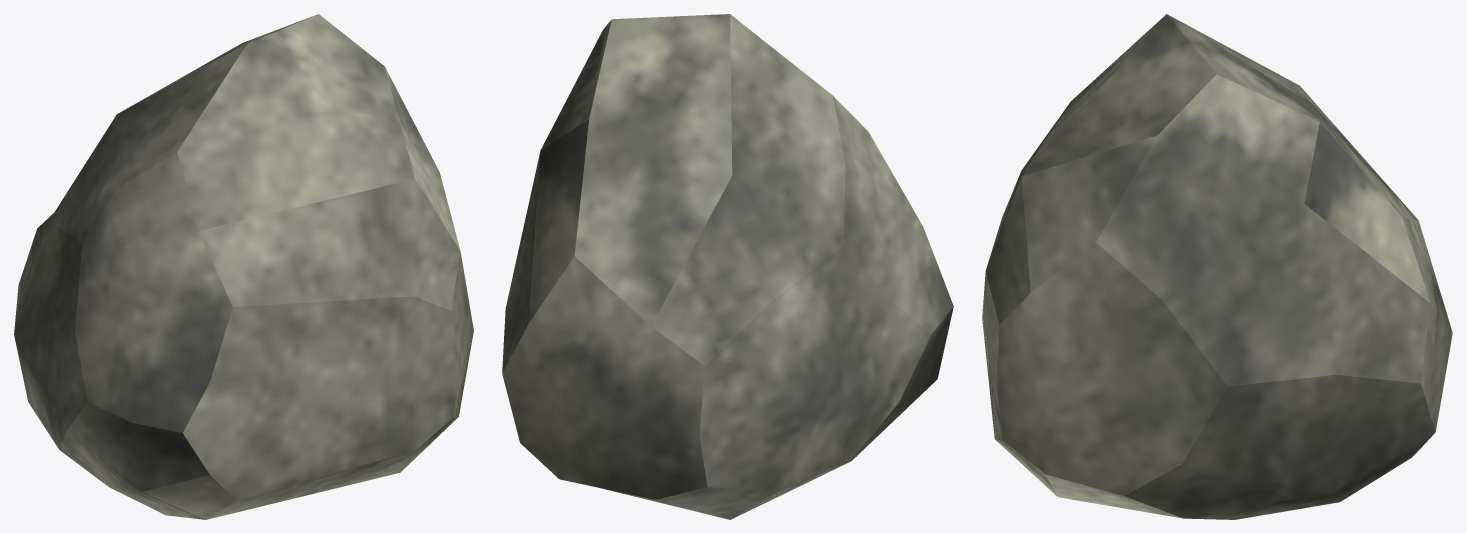
Rendered from Pedra4.fbx.
3 renders of one model, left to right at view 1: azimuth 30°, elevation 25°; view 2: azimuth 150°, elevation 25°; view 3: azimuth 270°, elevation 25°, orthographic. The views are drawn at different scales.
Parts seen in each view (by area): view 1: pPlatonic1; view 2: pPlatonic1; view 3: pPlatonic1.
Boxes of the visible parts, box(x1,y1,x2,y2) form: pPlatonic1: box(14, 14, 473, 519); pPlatonic1: box(502, 14, 953, 519); pPlatonic1: box(982, 14, 1452, 519).
Bounding box in the file's own units: 2.81 × 3.29 × 3.06.
Materials: 1 (1 with a texture image).
